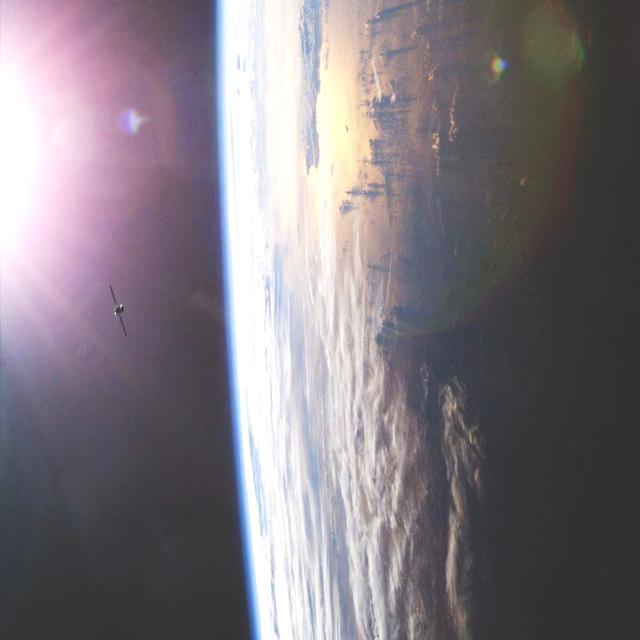satellite: (94, 268, 143, 346)
